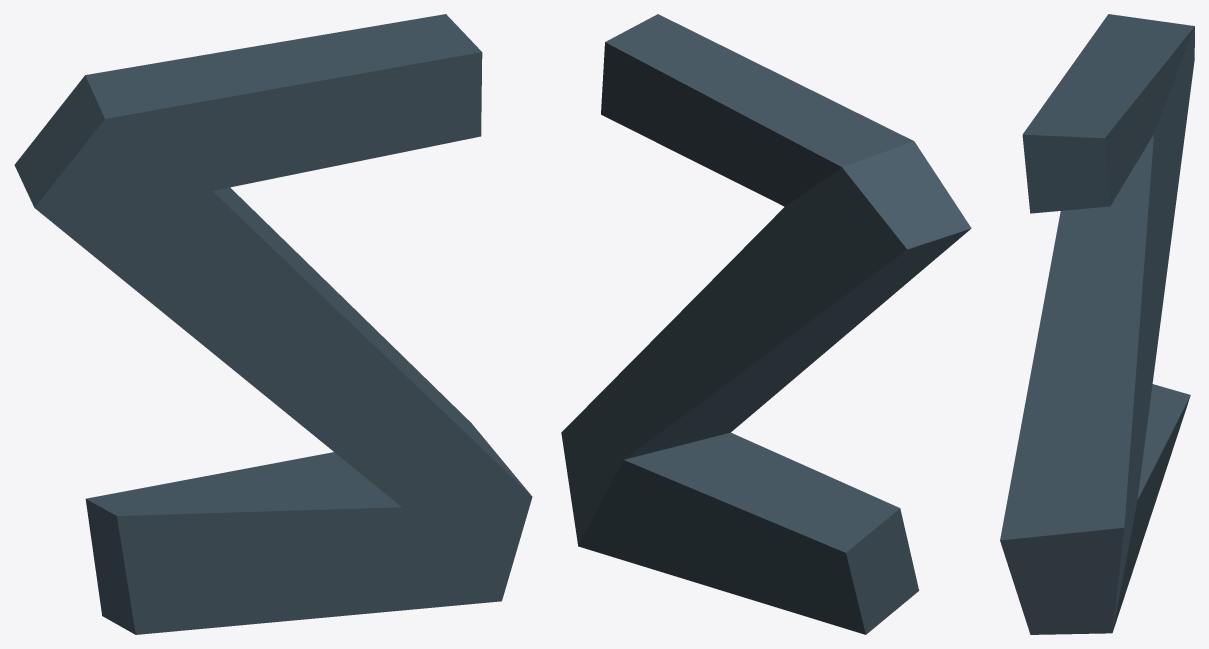
Rendered from lowercase-p.glb.
3 views of the same model, side by side, from view 1: azimuth 30°, elevation 25°; view 2: azimuth 150°, elevation 25°; view 3: azimuth 270°, elevation 25° (orthographic). The views are drawn at different scales.
Size of the model in its own units: 0.1808 by 0.2187 by 0.0787.
